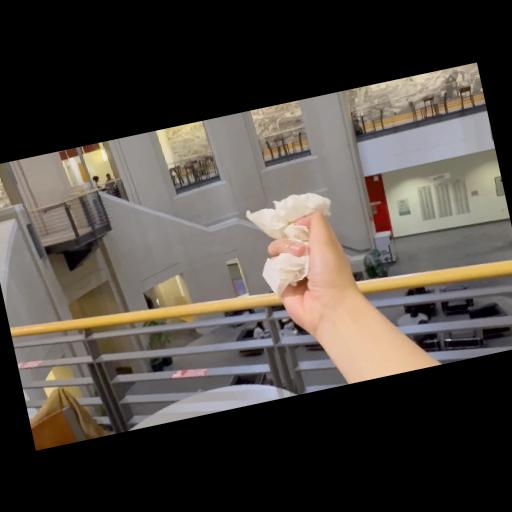napkin: (242, 186, 348, 303)
